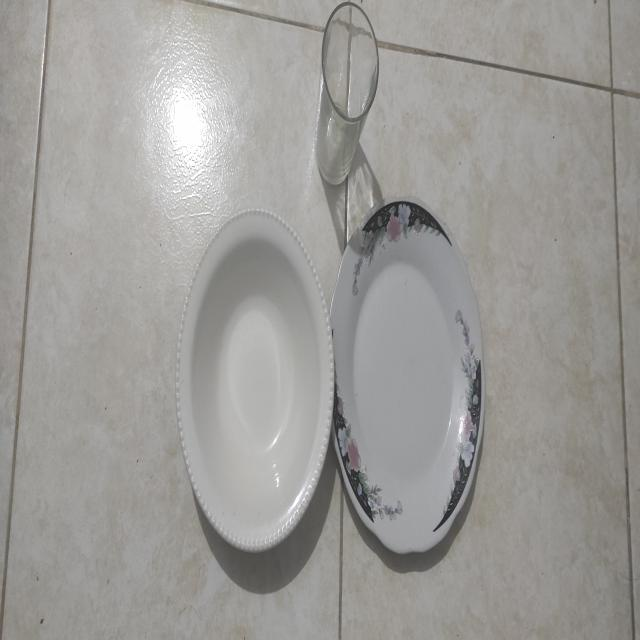non-organic waste: (328, 191, 492, 571), (172, 194, 336, 571)
